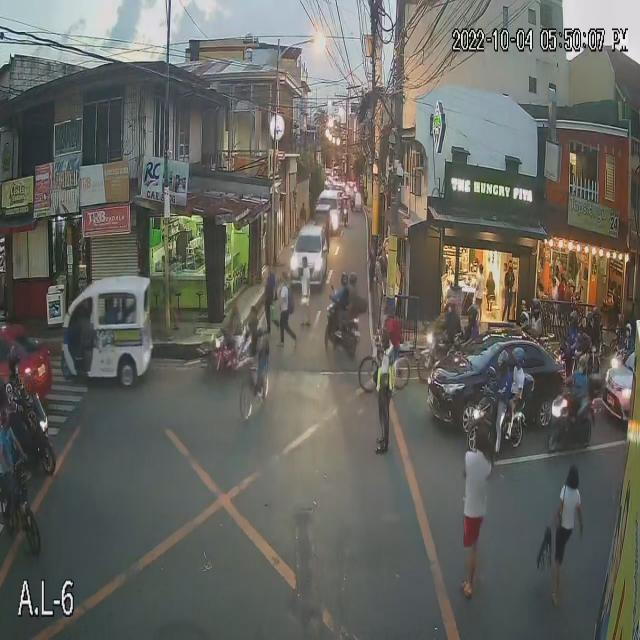helmet: (8, 344, 19, 379), (498, 353, 513, 374), (511, 346, 523, 367), (590, 305, 602, 325), (567, 313, 580, 331), (466, 305, 478, 323), (446, 297, 457, 316), (228, 299, 239, 317), (578, 358, 588, 377), (533, 299, 542, 315), (624, 324, 632, 339), (348, 273, 357, 286), (584, 313, 591, 329), (341, 270, 347, 287)
motorcycle: (469, 378, 526, 452), (3, 396, 54, 476), (546, 378, 601, 451), (204, 333, 256, 377), (324, 298, 361, 357), (418, 328, 462, 372), (606, 350, 630, 381), (338, 203, 351, 226)
rider: (6, 341, 24, 428), (437, 295, 464, 342), (494, 351, 509, 419), (225, 299, 245, 346), (509, 347, 524, 407), (462, 304, 484, 339), (574, 356, 587, 408), (529, 296, 545, 335), (345, 272, 357, 322), (565, 312, 580, 351), (336, 272, 348, 315), (620, 323, 632, 359), (591, 305, 601, 343), (583, 311, 593, 341)
